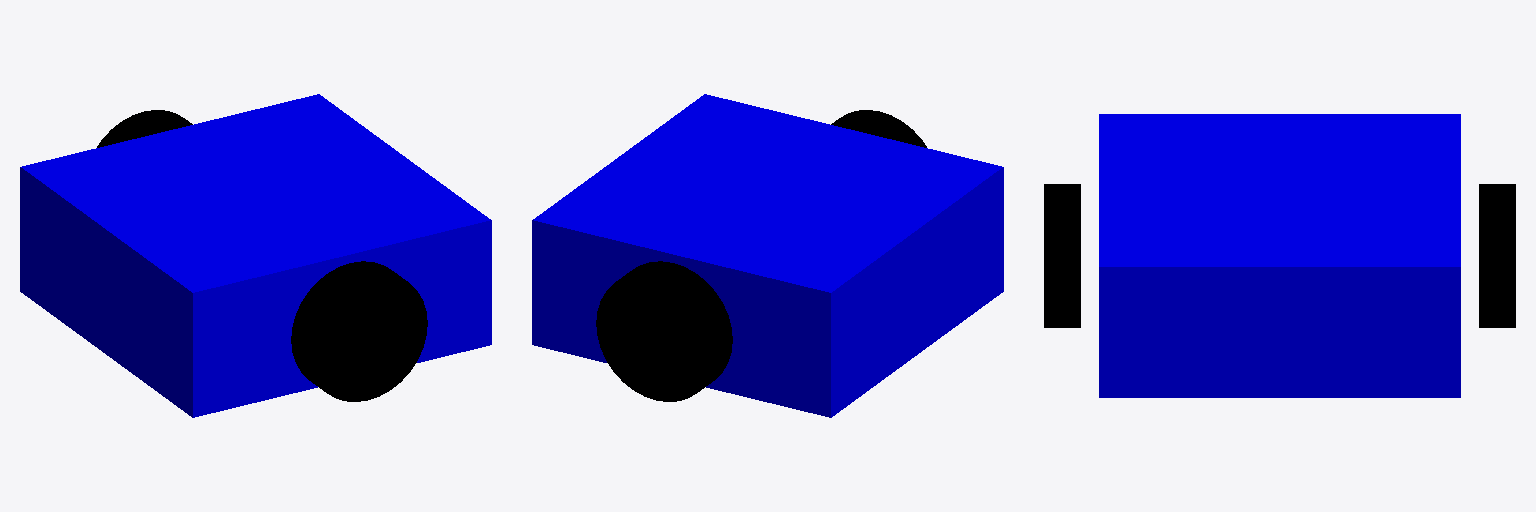
robot.urdf — square_robot:
<?xml version="1.0"?>
<robot name="square_robot">
  
  <!-- Base Link -->
  <link name="base_link">
    <visual>
      <geometry>
        <box size="0.5 0.5 0.2"/>
      </geometry>
      <material name="blue">
        <color rgba="0 0 1 1"/>
      </material>
    </visual>
    <collision>
      <geometry>
        <box size="0.5 0.5 0.2"/>
      </geometry>
    </collision>
    <inertial>
      <origin xyz="0 0 0" rpy="0 0 0"/>
      <mass value="10"/>
      <inertia ixx="0.4" ixy="0.0" ixz="0.0" iyy="0.4" iyz="0.0" izz="0.2"/>
    </inertial>
  </link>

  <!-- Left Wheel -->
  <link name="left_wheel">
    <visual>
      <geometry>
        <cylinder radius="0.1" length="0.05"/>
      </geometry>
      <material name="black">
        <color rgba="0 0 0 1"/>
      </material>
    </visual>
    <collision>
      <geometry>
        <cylinder radius="0.1" length="0.05"/>
      </geometry>
    </collision>
    <inertial>
      <origin xyz="0 0 0" rpy="0 0 0"/>
      <mass value="1"/>
      <inertia ixx="0.01" ixy="0.0" ixz="0.0" iyy="0.01" iyz="0.0" izz="0.01"/>
    </inertial>
  </link>

  <joint name="left_wheel_joint" type="continuous">
    <parent link="base_link"/>
    <child link="left_wheel"/>
    <origin xyz="0 0.3 0" rpy="-1.5707 0 0"/>
    <axis xyz="0 0 1"/>
  </joint>

  <!-- Right Wheel -->
  <link name="right_wheel">
    <visual>
      <geometry>
        <cylinder radius="0.1" length="0.05"/>
      </geometry>
      <material name="black">
        <color rgba="0 0 0 1"/>
      </material>
    </visual>
    <collision>
      <geometry>
        <cylinder radius="0.1" length="0.05"/>
      </geometry>
    </collision>
    <inertial>
      <origin xyz="0 0 0" rpy="0 0 0"/>
      <mass value="1"/>
      <inertia ixx="0.01" ixy="0.0" ixz="0.0" iyy="0.01" iyz="0.0" izz="0.01"/>
    </inertial>
  </link>

  <joint name="right_wheel_joint" type="continuous">
    <parent link="base_link"/>
    <child link="right_wheel"/>
    <origin xyz="0 -0.3 0" rpy="-1.5707 0 0"/>
    <axis xyz="0 0 1"/>
  </joint>

  <!-- ros2_control -->
  <ros2_control name="GazeboSystem" type="system">
    <hardware>
      <plugin>gazebo_ros2_control/GazeboSystem</plugin>
    </hardware>
    <joint name="left_wheel_joint">
      <command_interface name="velocity">
        <param name="min">-10</param>
        <param name="max">10</param>
      </command_interface>
      <state_interface name="position"/>
      <state_interface name="velocity"/>
    </joint>
    <joint name="right_wheel_joint">
      <command_interface name="velocity">
        <param name="min">-10</param>
        <param name="max">10</param>
      </command_interface>
      <state_interface name="position"/>
      <state_interface name="velocity"/>
    </joint>
  </ros2_control>

  <!-- Gazebo plugin - SEM a linha de parameters -->
  <gazebo>
    <plugin filename="libgazebo_ros2_control.so" name="gazebo_ros2_control">
      <robot_sim_type>gazebo_ros2_control/GazeboSystem</robot_sim_type>
    </plugin>
  </gazebo>

</robot>

--- Render facts (derived) ---
Views: 3 orthographic renders of the robot side by side, from view 1: azimuth 30°, elevation 25°; view 2: azimuth 150°, elevation 25°; view 3: azimuth 270°, elevation 25°.
Robot: square_robot — 3 links, 2 joints (2 continuous); root link base_link; default pose: every joint at zero.
Visible links, largest first — view 1: base_link, right_wheel, left_wheel; view 2: base_link, left_wheel, right_wheel; view 3: base_link, left_wheel, right_wheel.
Link boxes in pixels (left/top/right/bottom): base_link: left=20, top=94, right=491, bottom=417; right_wheel: left=291, top=261, right=427, bottom=401; left_wheel: left=97, top=110, right=192, bottom=147; base_link: left=532, top=94, right=1003, bottom=417; left_wheel: left=596, top=261, right=732, bottom=401; right_wheel: left=831, top=110, right=926, bottom=147; base_link: left=1099, top=114, right=1460, bottom=397; left_wheel: left=1479, top=184, right=1515, bottom=327; right_wheel: left=1044, top=184, right=1080, bottom=327.
Size in the robot's own frame: 0.5 by 0.65 by 0.2 metres.
Geometry: primitives only (box / cylinder / sphere), no mesh files.